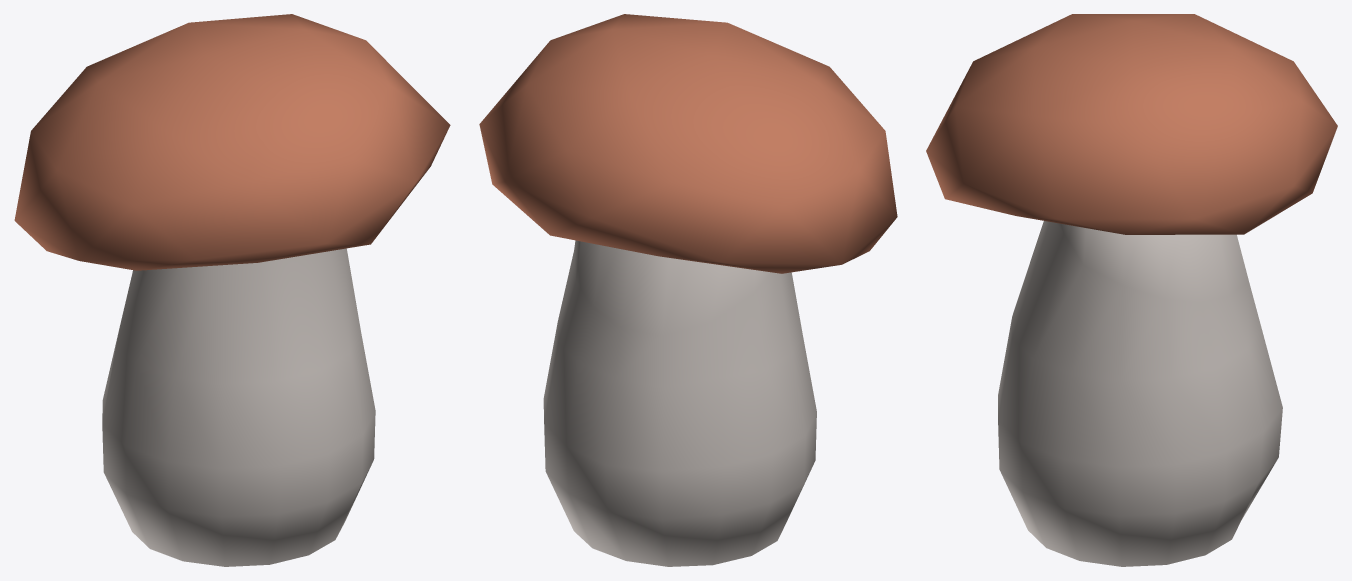
Rendered from Boletus_big.fbx.
3 renders of one model, left to right at view 1: azimuth 30°, elevation 25°; view 2: azimuth 150°, elevation 25°; view 3: azimuth 270°, elevation 25°, orthographic.
Parts seen in each view (by area): view 1: Boletus_big; view 2: Boletus_big; view 3: Boletus_big.
Boxes of the visible parts, x1=… form: Boletus_big: x1=14, y1=14, x2=450, y2=566; Boletus_big: x1=479, y1=14, x2=897, y2=566; Boletus_big: x1=926, y1=14, x2=1337, y2=566.
Size of the model in its own units: 21.07 by 26 by 20.01.
